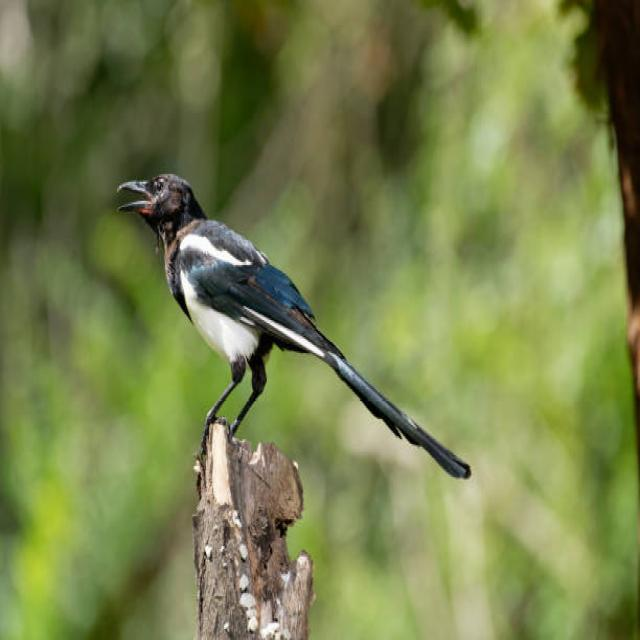Magpie: (114, 168, 472, 484)
